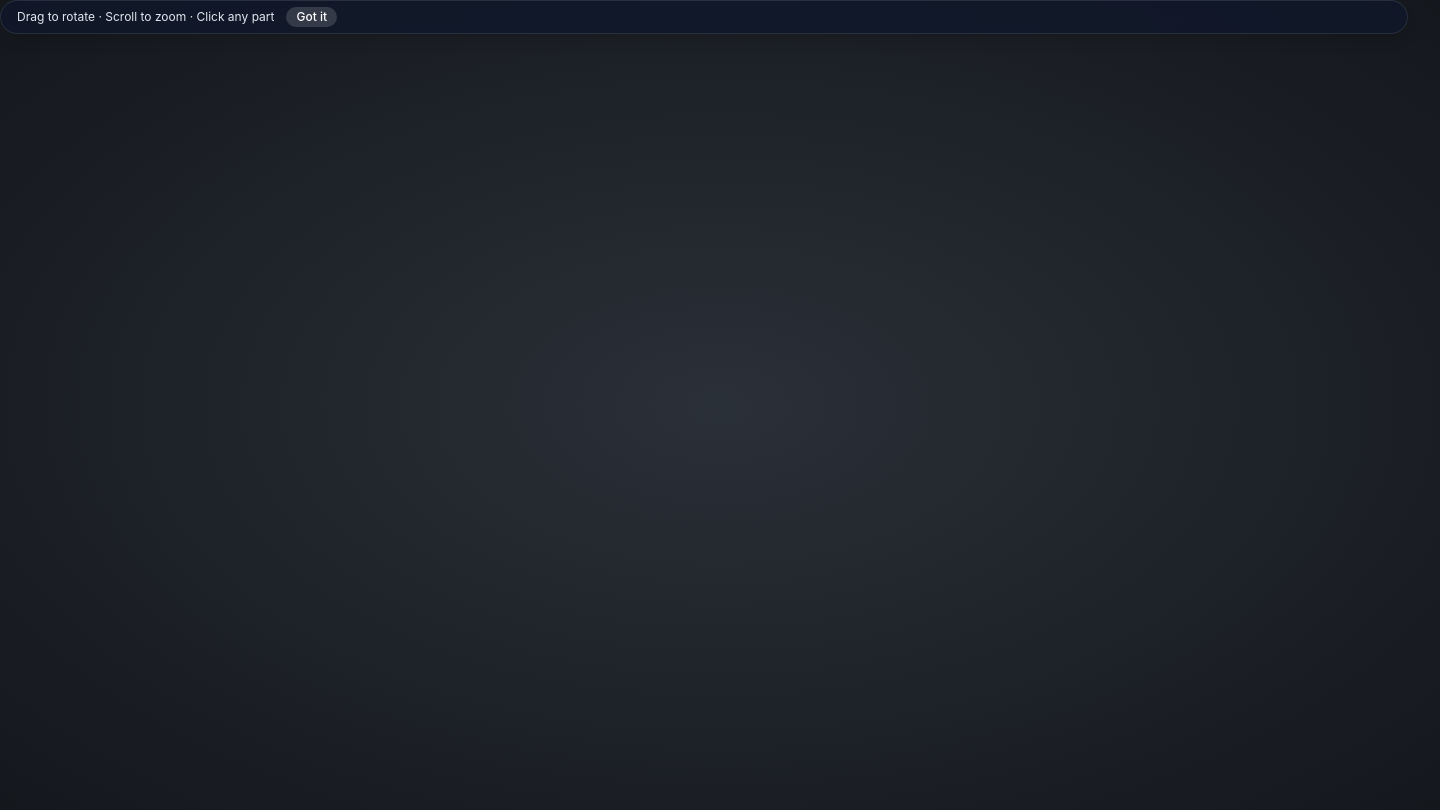
FirstRunHint › shows the hint and dismisses with Got it writing localStorage
Expected: the text "Drag to rotate · Scroll to zoom · Click any part" is shown, x1=17 y1=9 x2=274 y2=25
Click the button "Got it" at (312, 17), box x1=286 y1=7 x2=337 y2=27
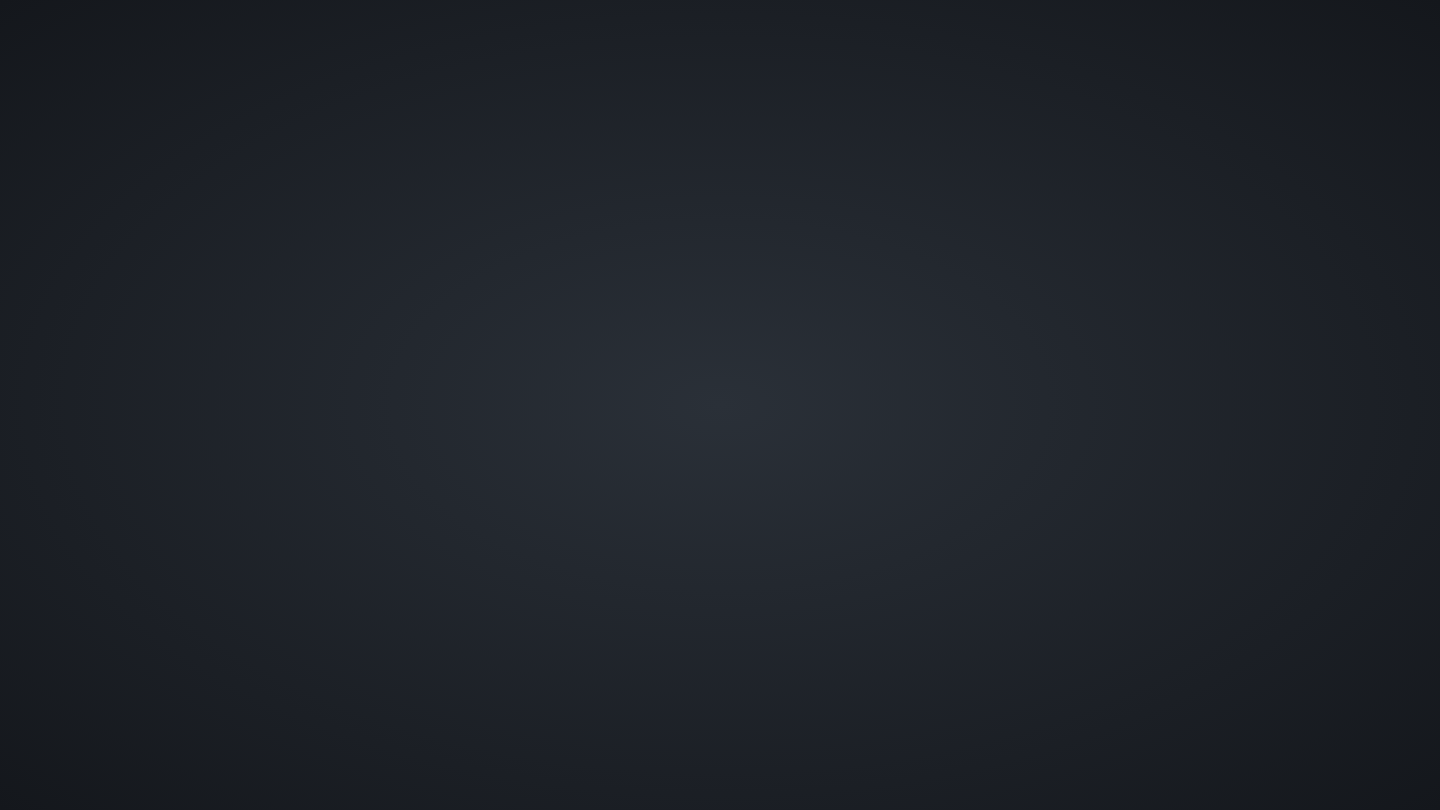
Result: the text "Drag to rotate · Scroll to zoom · Click any part" is gone
